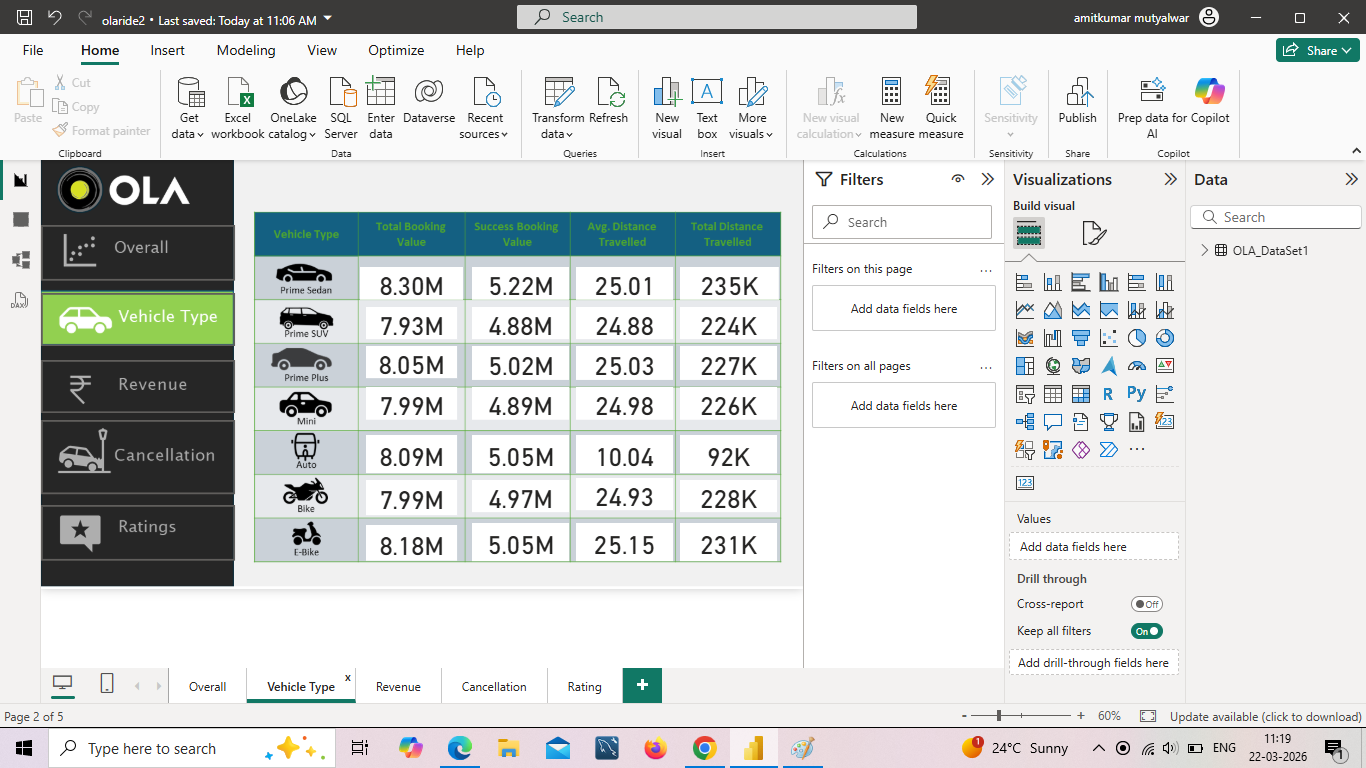

Layout of this report page (visuals, bound fields, positions):
{"tool":"powerbi","page":{"name":"Vheicle Type","canvas":[1280,720],"ordinal":1},"visuals":[{"type":"actionButton","box":[0,223.9,326,89.3],"z":0},{"type":"actionButton","box":[0,335.9,326,89.3],"z":1000},{"type":"actionButton","box":[0,436.5,326,124.7],"z":2000},{"type":"actionButton","box":[0,579.7,326,93.5],"z":3000},{"type":"actionButton","box":[0,109.1,326,93.5],"z":4000},{"type":"card","fields":{"Values":["Sum(OLA_DataSet1.Booking_Value)"]},"box":[535.9,179.7,173,55.4],"z":5000},{"type":"card","fields":{"Values":["Sum(OLA_DataSet1.Booking_Value)"]},"box":[545.9,246.9,152.9,53.8],"z":6000},{"type":"card","fields":{"Values":["Sum(OLA_DataSet1.Booking_Value)"]},"box":[545.9,312.4,152.9,53.8],"z":7000},{"type":"card","fields":{"Values":["Sum(OLA_DataSet1.Booking_Value)"]},"box":[545.9,381.3,152.9,55.4],"z":8000},{"type":"card","fields":{"Values":["Sum(OLA_DataSet1.Booking_Value)"]},"box":[545.9,461.9,152.9,63.8],"z":9000},{"type":"card","fields":{"Values":["Sum(OLA_DataSet1.Booking_Value)"]},"box":[545.9,537.5,152.9,58.8],"z":10000},{"type":"card","fields":{"Values":["Sum(OLA_DataSet1.Booking_Value)"]},"box":[545.9,613.1,152.9,60.5],"z":11000},{"type":"card","fields":{"Values":["Sum(OLA_DataSet1.Booking_Value)"]},"box":[724,179.7,162.9,55.4],"z":12000},{"type":"card","fields":{"Values":["Sum(OLA_DataSet1.Booking_Value)"]},"box":[724,246.9,162.9,53.8],"z":13000},{"type":"card","fields":{"Values":["Sum(OLA_DataSet1.Booking_Value)"]},"box":[724,312.4,162.9,57.1],"z":14000},{"type":"card","fields":{"Values":["Sum(OLA_DataSet1.Booking_Value)"]},"box":[724,381.3,162.9,55.4],"z":15000},{"type":"card","fields":{"Values":["Sum(OLA_DataSet1.Booking_Value)"]},"box":[724,461.9,162.9,63.8],"z":16000},{"type":"card","fields":{"Values":["Sum(OLA_DataSet1.Booking_Value)"]},"box":[724,537.5,162.9,53.8],"z":17000},{"type":"card","fields":{"Values":["Sum(OLA_DataSet1.Booking_Value)"]},"box":[724,609.8,162.9,63.8],"z":18000},{"type":"card","fields":{"Values":["Avg(OLA_DataSet1.Ride_Distance)"]},"box":[898.7,179.7,162.9,55.4],"z":19000},{"type":"card","fields":{"Values":["Avg(OLA_DataSet1.Ride_Distance)"]},"box":[898.7,246.9,162.9,53.8],"z":20000},{"type":"card","fields":{"Values":["Avg(OLA_DataSet1.Ride_Distance)"]},"box":[898.7,312.4,162.9,57.1],"z":21000},{"type":"card","fields":{"Values":["Avg(OLA_DataSet1.Ride_Distance)"]},"box":[898.7,381.3,162.9,55.4],"z":22000},{"type":"card","fields":{"Values":["Avg(OLA_DataSet1.Ride_Distance)"]},"box":[898.7,461.9,162.9,63.8],"z":23000},{"type":"card","fields":{"Values":["Avg(OLA_DataSet1.Ride_Distance)"]},"box":[898.7,534.2,162.9,53.8],"z":24000},{"type":"card","fields":{"Values":["Avg(OLA_DataSet1.Ride_Distance)"]},"box":[898.7,609.8,162.9,63.8],"z":25000},{"type":"card","fields":{"Values":["Sum(OLA_DataSet1.Ride_Distance)"]},"box":[1073.4,179.7,166.3,55.4],"z":26000},{"type":"card","fields":{"Values":["Sum(OLA_DataSet1.Ride_Distance)"]},"box":[1073.4,246.9,162.9,53.8],"z":27000},{"type":"card","fields":{"Values":["Sum(OLA_DataSet1.Ride_Distance)"]},"box":[1073.4,312.4,162.9,57.1],"z":28000},{"type":"card","fields":{"Values":["Sum(OLA_DataSet1.Ride_Distance)"]},"box":[1073.4,381.3,162.9,55.4],"z":29000},{"type":"card","fields":{"Values":["Sum(OLA_DataSet1.Ride_Distance)"]},"box":[1073.4,461.9,162.9,63.8],"z":30000},{"type":"card","fields":{"Values":["Sum(OLA_DataSet1.Ride_Distance)"]},"box":[1073.4,537.5,162.9,53.8],"z":31000},{"type":"card","fields":{"Values":["Sum(OLA_DataSet1.Ride_Distance)"]},"box":[1073.4,609.8,162.9,63.8],"z":32000}]}

Visuals, with their boxes on the page's 1280x720 design canvas (x1, y1, x2, y2). These are canvas units, not pixel positions in the 1366x768 screenshot, which may show the page scaled, cropped or inside an application window:
actionButton: detection(0, 224, 326, 313)
actionButton: detection(0, 336, 326, 425)
actionButton: detection(0, 436, 326, 561)
actionButton: detection(0, 580, 326, 673)
actionButton: detection(0, 109, 326, 203)
card - Sum(OLA_DataSet1.Booking_Value): detection(536, 180, 709, 235)
card - Sum(OLA_DataSet1.Booking_Value): detection(546, 247, 699, 301)
card - Sum(OLA_DataSet1.Booking_Value): detection(546, 312, 699, 366)
card - Sum(OLA_DataSet1.Booking_Value): detection(546, 381, 699, 437)
card - Sum(OLA_DataSet1.Booking_Value): detection(546, 462, 699, 526)
card - Sum(OLA_DataSet1.Booking_Value): detection(546, 538, 699, 596)
card - Sum(OLA_DataSet1.Booking_Value): detection(546, 613, 699, 674)
card - Sum(OLA_DataSet1.Booking_Value): detection(724, 180, 887, 235)
card - Sum(OLA_DataSet1.Booking_Value): detection(724, 247, 887, 301)
card - Sum(OLA_DataSet1.Booking_Value): detection(724, 312, 887, 370)
card - Sum(OLA_DataSet1.Booking_Value): detection(724, 381, 887, 437)
card - Sum(OLA_DataSet1.Booking_Value): detection(724, 462, 887, 526)
card - Sum(OLA_DataSet1.Booking_Value): detection(724, 538, 887, 591)
card - Sum(OLA_DataSet1.Booking_Value): detection(724, 610, 887, 674)
card - Avg(OLA_DataSet1.Ride_Distance): detection(899, 180, 1062, 235)
card - Avg(OLA_DataSet1.Ride_Distance): detection(899, 247, 1062, 301)
card - Avg(OLA_DataSet1.Ride_Distance): detection(899, 312, 1062, 370)
card - Avg(OLA_DataSet1.Ride_Distance): detection(899, 381, 1062, 437)
card - Avg(OLA_DataSet1.Ride_Distance): detection(899, 462, 1062, 526)
card - Avg(OLA_DataSet1.Ride_Distance): detection(899, 534, 1062, 588)
card - Avg(OLA_DataSet1.Ride_Distance): detection(899, 610, 1062, 674)
card - Sum(OLA_DataSet1.Ride_Distance): detection(1073, 180, 1240, 235)
card - Sum(OLA_DataSet1.Ride_Distance): detection(1073, 247, 1236, 301)
card - Sum(OLA_DataSet1.Ride_Distance): detection(1073, 312, 1236, 370)
card - Sum(OLA_DataSet1.Ride_Distance): detection(1073, 381, 1236, 437)
card - Sum(OLA_DataSet1.Ride_Distance): detection(1073, 462, 1236, 526)
card - Sum(OLA_DataSet1.Ride_Distance): detection(1073, 538, 1236, 591)
card - Sum(OLA_DataSet1.Ride_Distance): detection(1073, 610, 1236, 674)
